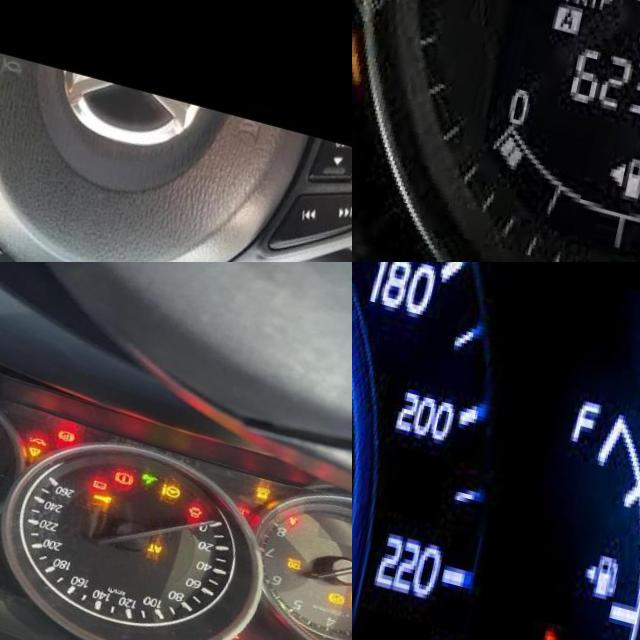Electronic Power Steering: (176, 462, 196, 478)
High Engine Coolant Temperature: (251, 482, 265, 495)
Seat Belt: (303, 487, 312, 499)
